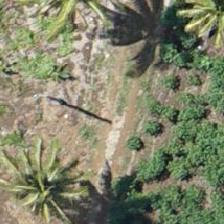coconut_tree: (19, 141, 109, 223)
